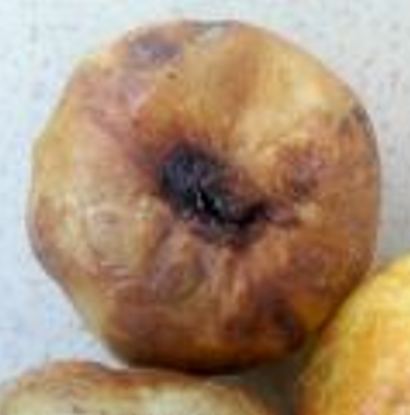guava_C: (25, 19, 382, 377)
